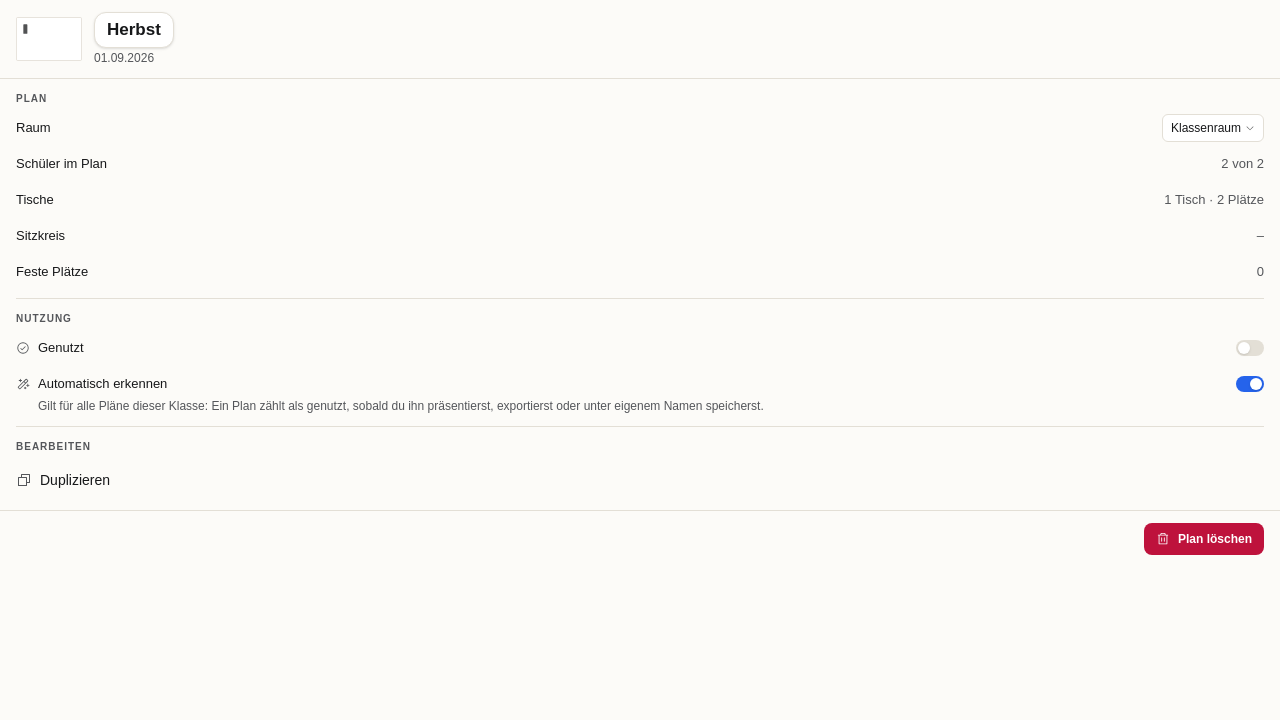
Test: PlanPanel › names a new room for the plan from the end of the menu
Click the button "Klassenraum" at (1213, 128), box [1162,114,1264,142]
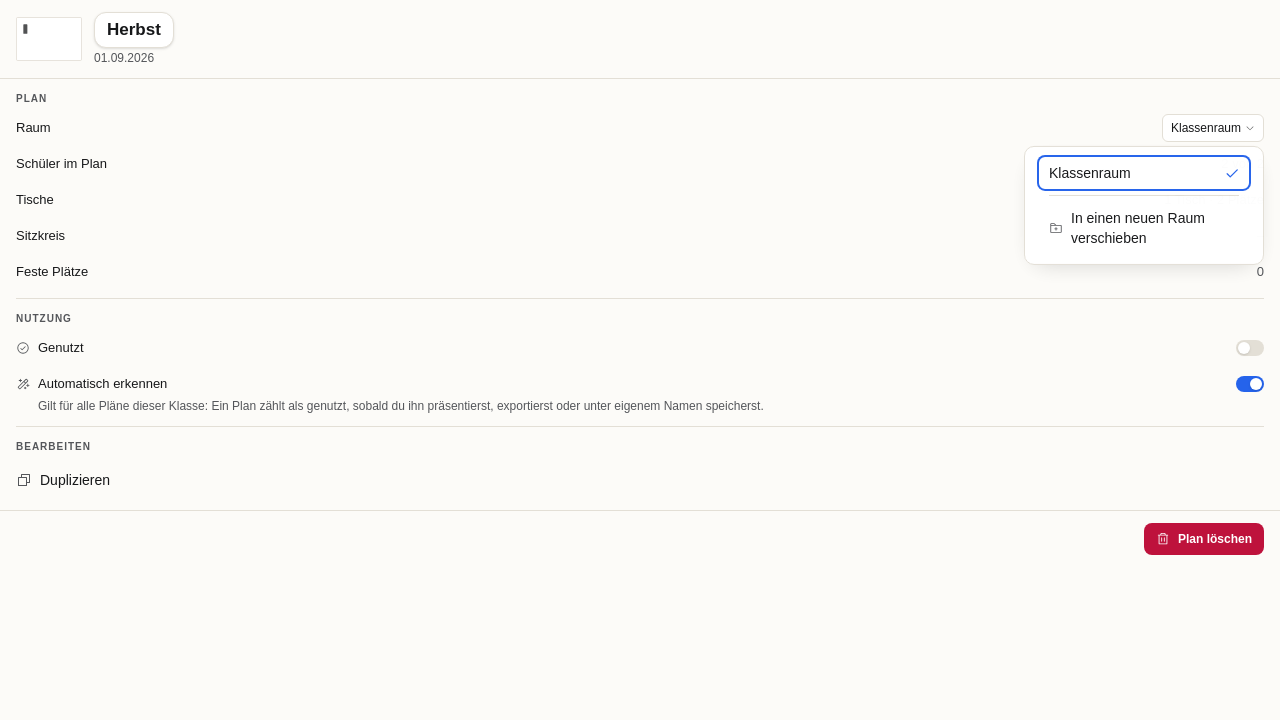
Click the button "In einen neuen Raum verschieben" at (1144, 227), box [1037,199,1251,255]
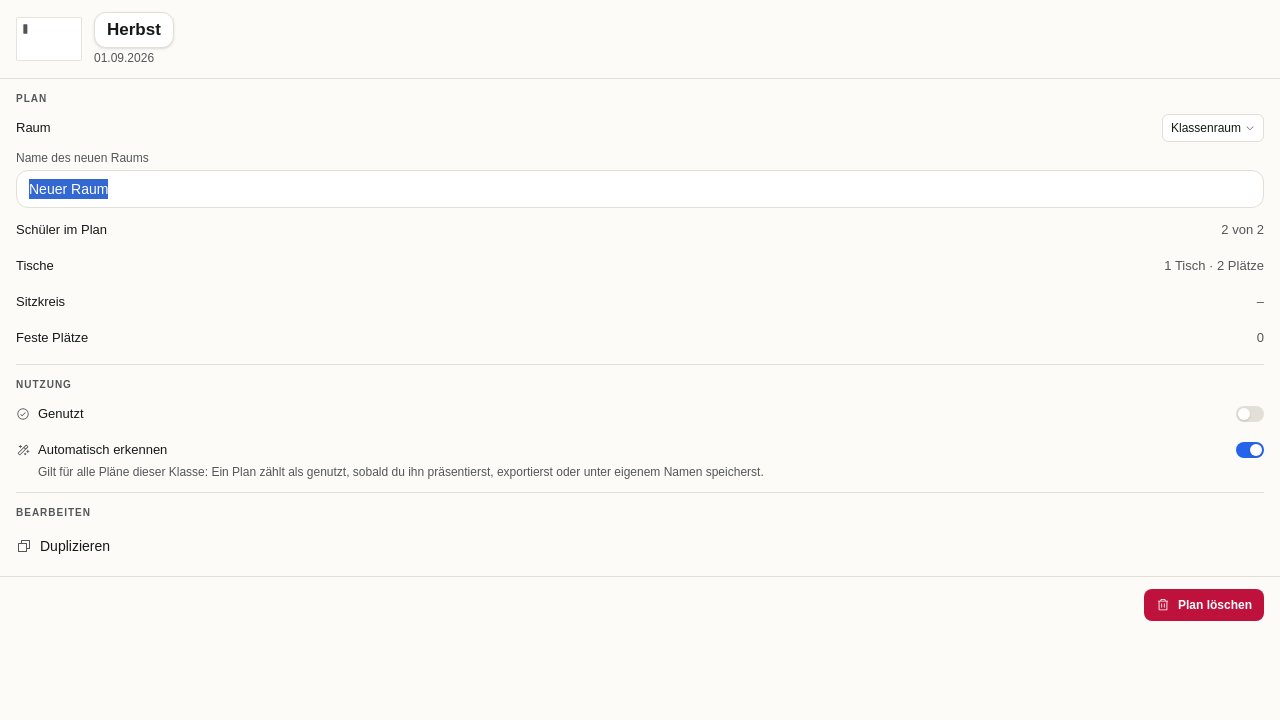
Check: the field labelled "Name des neuen Raums" is shown, box [16,170,1264,208]
